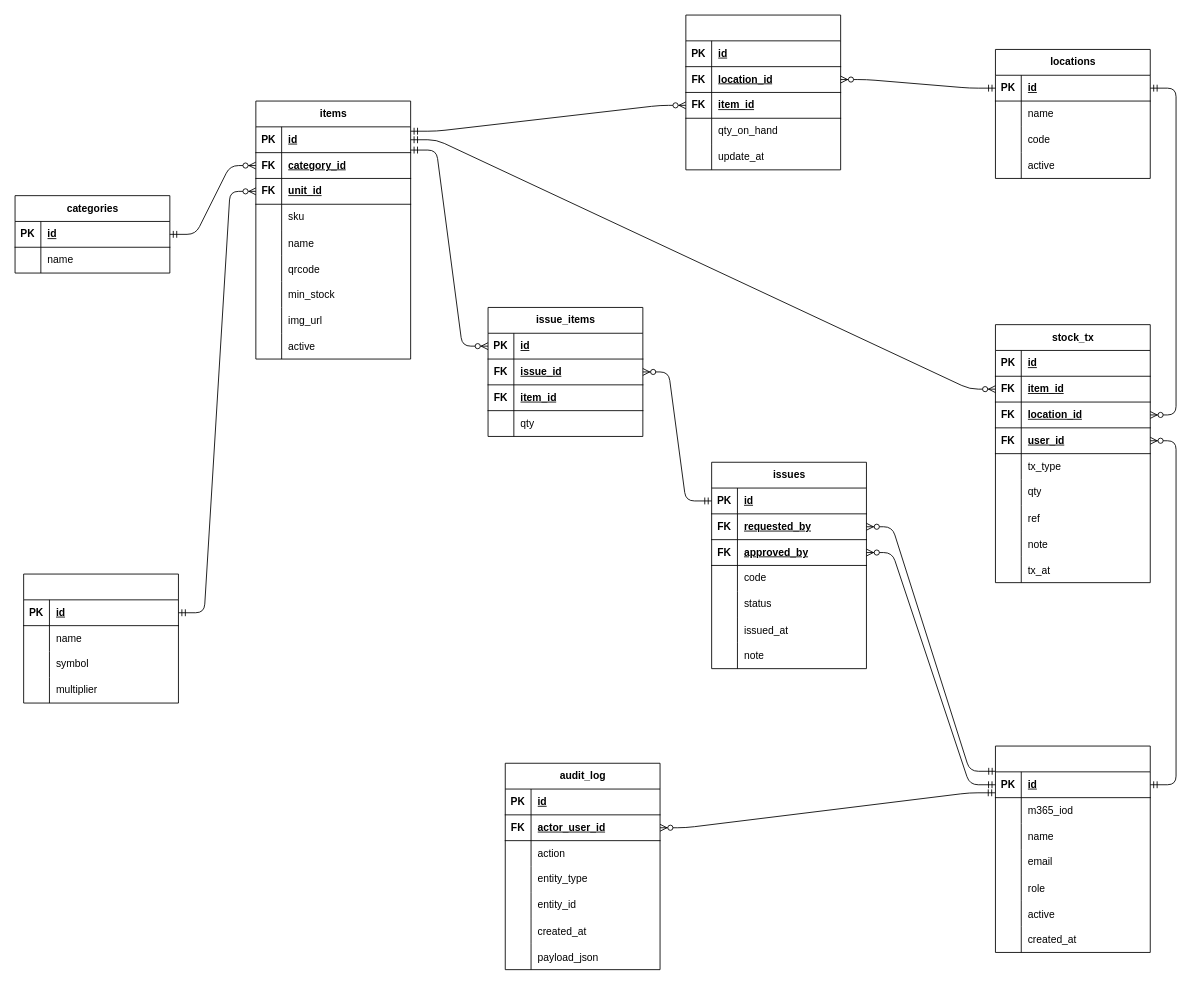
This 1199x985 diagram has some shape labels left out. Each missing label, with the box of its shape:
stock_levels: (685, 14, 841, 170)
units: (23, 573, 178, 703)
users: (995, 745, 1150, 952)
